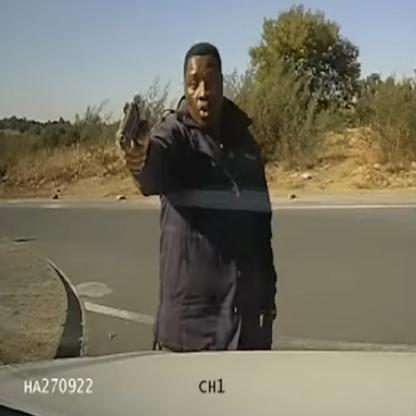criminal: (113, 41, 278, 354)
weapon: (113, 101, 148, 154)
